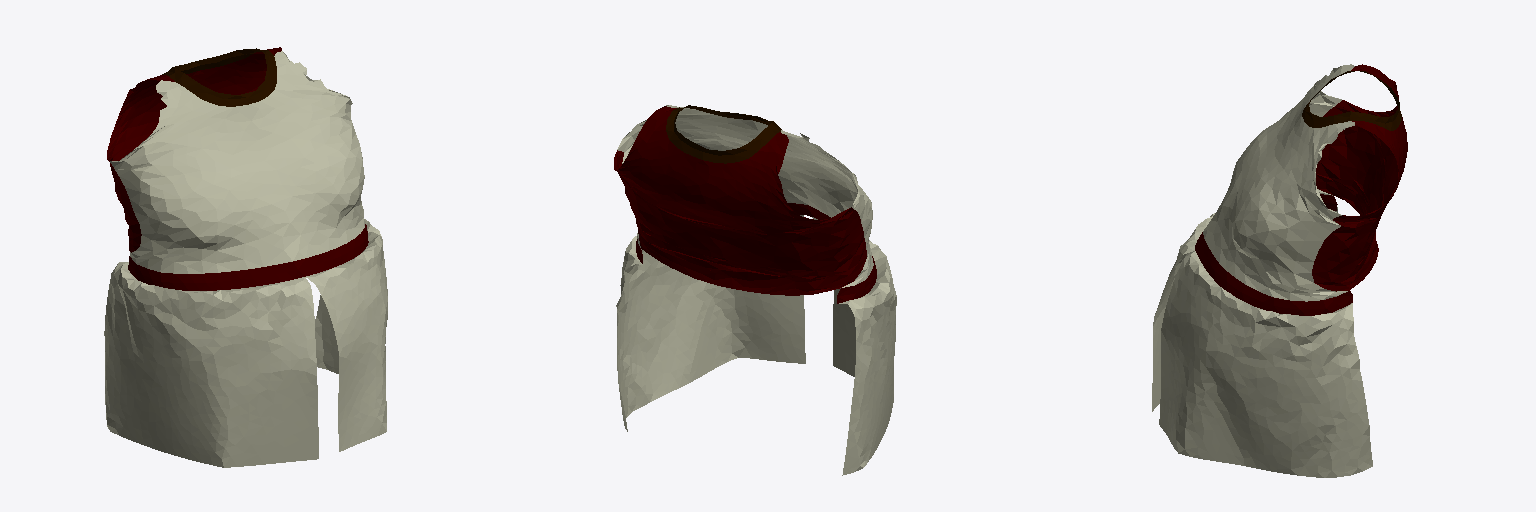
The model's file is god_shirt.obj.
3 renders of one model, left to right at view 1: azimuth 30°, elevation 25°; view 2: azimuth 150°, elevation 25°; view 3: azimuth 270°, elevation 25°, orthographic.
Parts seen in each view (by area): view 1: object; view 2: object; view 3: object.
Part boxes in pixels (bbox=[...]): object: bbox=[104, 47, 387, 467]; object: bbox=[614, 105, 896, 475]; object: bbox=[1152, 64, 1407, 477].
Bounding box in the file's own units: 0.3056 × 0.3932 × 0.2727.